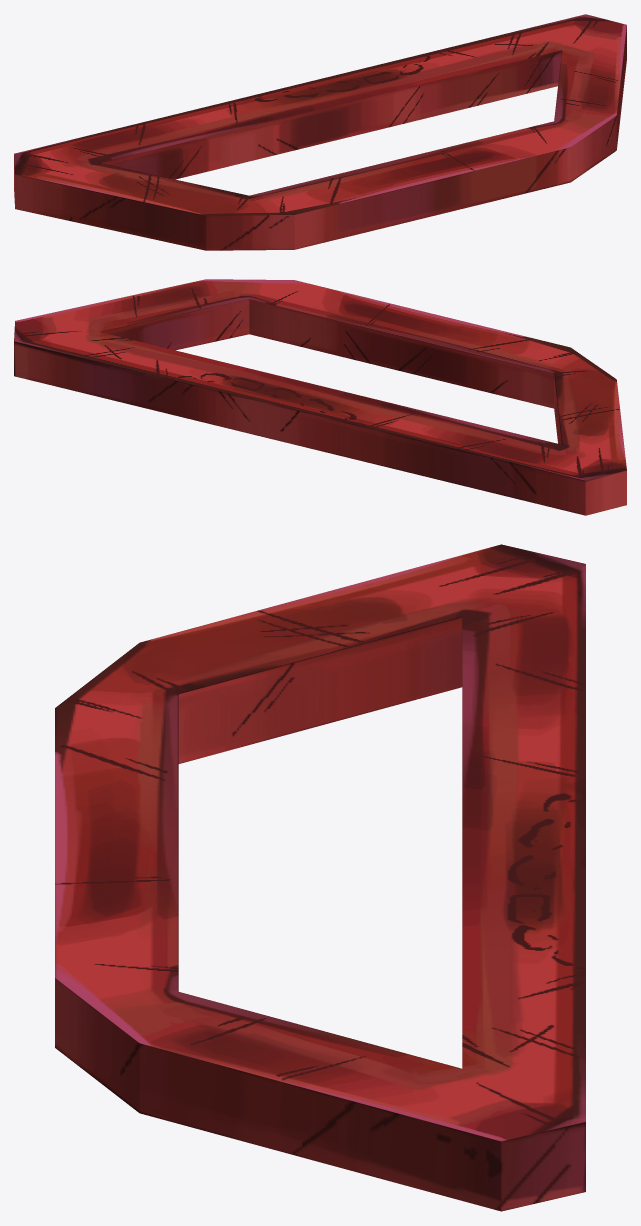
The model's file is GrappleHandle.fbx.
3 views of the same model, one above another, from view 1: azimuth 30°, elevation 25°; view 2: azimuth 150°, elevation 25°; view 3: azimuth 270°, elevation 25° (orthographic). The views are drawn at different scales.
Visible parts, largest first — view 1: GrappleHandle; view 2: GrappleHandle; view 3: GrappleHandle.
Boxes of the visible parts, box(x1,y1,x2,y2) form: GrappleHandle: box(14, 14, 626, 250); GrappleHandle: box(14, 279, 626, 515); GrappleHandle: box(55, 544, 585, 1211).
Bounding box in the file's own units: 186 × 10.15 × 69.81.
1 material, 1 textured.
